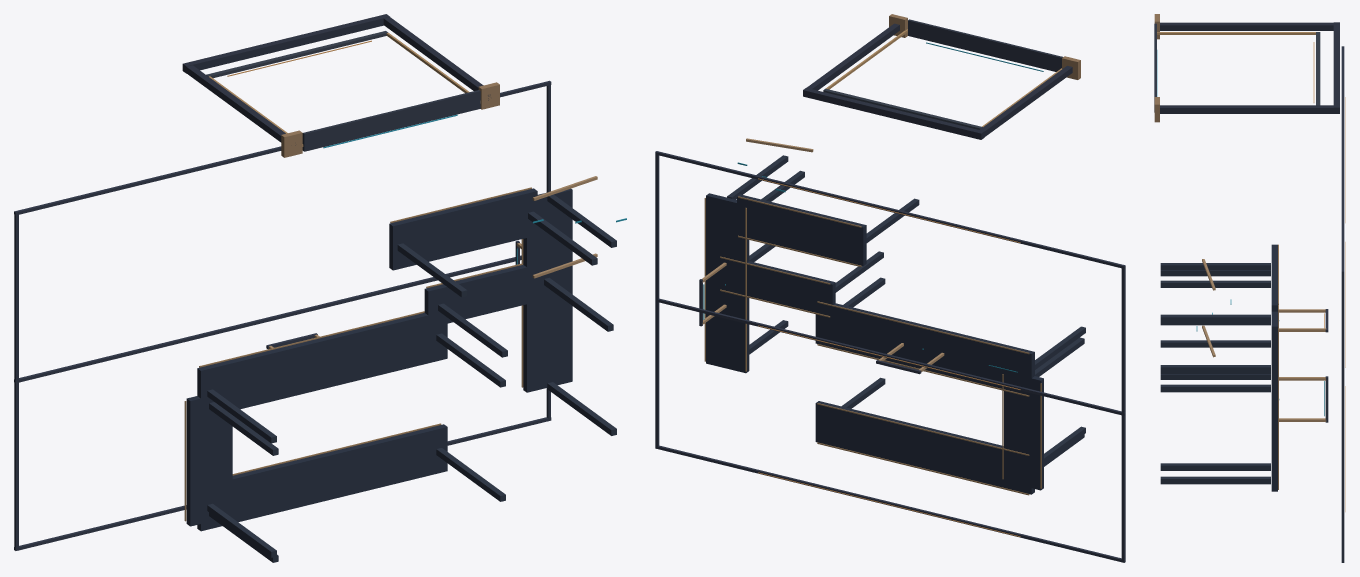
The model's file is nocturne-aether-3d-labyrinth-20261110.fbx.
The picture shows the model from 3 angles, left to right: view 1: azimuth 30°, elevation 25°; view 2: azimuth 150°, elevation 25°; view 3: azimuth 270°, elevation 25°; orthographic projection. The views are drawn at different scales.
Visible parts, largest first — view 1: Obsidian Upper Deck A, Obsidian Upper Deck C, Obsidian Upper Deck B, Obsidian Upper Deck E, Obsidian Upper Deck D, Obsidian Upper Deck F, Titanium Portal Sill, Titanium Crown Spine Mid, Obsidian Portal Crown, Titanium Crown Spine South, Titanium Crown Spine North, Obsidian Portal Outer West (+14 smaller); view 2: Obsidian Upper Deck A, Obsidian Upper Deck C, Obsidian Upper Deck B, Obsidian Upper Deck E, Obsidian Upper Deck D, Obsidian Upper Deck F, Titanium Portal Sill, Titanium Crown Spine South, Titanium Crown Spine Mid, Titanium Crown Spine North, Obsidian Portal Crown, Titanium Crown Rail West (+6 smaller); view 3: Obsidian Portal Outer East, Obsidian Portal Outer West, Obsidian Upper Deck B, Titanium Deck Support B North, Titanium Deck Support B South, Titanium Deck Support F East, Titanium Crown Spine South, Titanium Deck Support C East, Titanium Deck Support A East, Titanium Deck Support F West, Titanium Deck Support E West, Titanium Deck Support D South (+10 smaller).
Part boxes in pixels (<box>): Obsidian Upper Deck A: <box>197,312,447,418</box>; Obsidian Upper Deck C: <box>197,424,447,531</box>; Obsidian Upper Deck B: <box>523,188,572,392</box>; Obsidian Upper Deck E: <box>389,188,537,270</box>; Obsidian Upper Deck D: <box>186,392,232,526</box>; Obsidian Upper Deck F: <box>424,260,558,327</box>; Titanium Portal Sill: <box>302,90,480,151</box>; Titanium Crown Spine Mid: <box>14,255,521,383</box>; Obsidian Portal Crown: <box>182,14,389,73</box>; Titanium Crown Spine South: <box>14,80,551,215</box>; Titanium Crown Spine North: <box>14,417,551,550</box>; Obsidian Portal Outer West: <box>186,65,295,145</box>; Obsidian Upper Deck A: <box>815,301,1034,388</box>; Obsidian Upper Deck C: <box>815,401,1034,494</box>; Obsidian Upper Deck B: <box>706,193,749,373</box>; Obsidian Upper Deck E: <box>737,194,866,266</box>; Obsidian Upper Deck D: <box>1004,371,1043,490</box>; Obsidian Upper Deck F: <box>718,257,835,316</box>; Titanium Portal Sill: <box>908,19,1062,71</box>; Titanium Crown Spine South: <box>655,151,1125,268</box>; Titanium Crown Spine Mid: <box>655,298,1125,415</box>; Titanium Crown Spine North: <box>655,445,1125,562</box>; Obsidian Portal Crown: <box>803,88,984,139</box>; Titanium Crown Rail West: <box>1121,268,1125,561</box>; Obsidian Portal Outer East: <box>1160,105,1335,113</box>; Obsidian Portal Outer West: <box>1160,22,1333,30</box>; Obsidian Upper Deck B: <box>1271,311,1277,491</box>; Titanium Deck Support B North: <box>1160,476,1270,484</box>; Titanium Deck Support B South: <box>1160,314,1270,322</box>; Titanium Deck Support F East: <box>1160,384,1270,392</box>; Titanium Crown Spine South: <box>1341,46,1344,273</box>; Titanium Deck Support C East: <box>1160,463,1270,470</box>; Titanium Deck Support A East: <box>1160,365,1270,372</box>; Titanium Deck Support F West: <box>1160,340,1270,347</box>; Titanium Deck Support E West: <box>1160,263,1270,270</box>; Titanium Deck Support D South: <box>1160,280,1270,287</box>.
Bounding box in the file's own units: 15.2 × 12.32 × 5.47.
